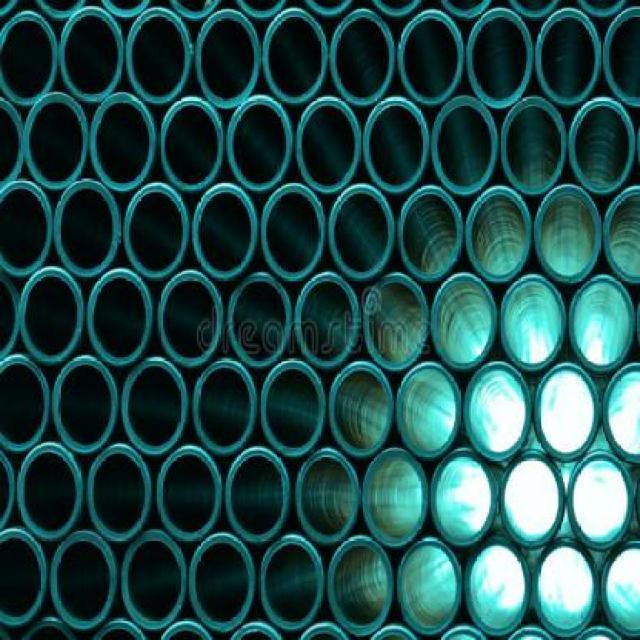pipe: (534, 185, 602, 285), (465, 362, 533, 462), (326, 536, 394, 636), (464, 537, 532, 637), (532, 537, 600, 637), (430, 96, 498, 195), (430, 450, 498, 549), (90, 92, 155, 194), (534, 363, 600, 463), (466, 9, 532, 109), (121, 530, 187, 630), (189, 533, 255, 633), (225, 96, 293, 193), (498, 451, 566, 548), (500, 96, 566, 195), (19, 267, 85, 366), (87, 269, 153, 368), (567, 451, 633, 550), (50, 532, 116, 631), (465, 186, 533, 282), (362, 449, 427, 549), (195, 9, 260, 109), (54, 178, 119, 277), (87, 444, 152, 543), (569, 96, 635, 193), (430, 272, 496, 369), (53, 356, 119, 453), (122, 358, 188, 455), (396, 363, 462, 460), (17, 443, 83, 540), (397, 539, 463, 636), (570, 275, 635, 373), (363, 97, 429, 193), (500, 275, 566, 371), (398, 9, 464, 105), (296, 97, 361, 194), (124, 182, 189, 279), (261, 184, 326, 281), (398, 186, 463, 283), (159, 269, 224, 366), (295, 273, 360, 370), (260, 360, 325, 457), (225, 447, 290, 544), (58, 6, 123, 103), (126, 6, 191, 103), (535, 8, 600, 105), (330, 9, 395, 106), (25, 93, 90, 189), (192, 184, 257, 280), (329, 184, 394, 280), (262, 8, 327, 104), (156, 447, 222, 541), (193, 359, 256, 456), (261, 535, 324, 632), (329, 363, 394, 457), (295, 450, 360, 544), (160, 97, 223, 191), (228, 273, 291, 367), (0, 10, 57, 106), (0, 178, 52, 276), (0, 528, 48, 627), (0, 356, 49, 451), (601, 360, 640, 465), (600, 540, 639, 639), (603, 6, 640, 108), (603, 185, 640, 284)
